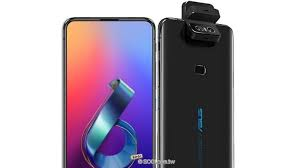asus: (57, 14, 159, 167), (155, 15, 240, 168)
